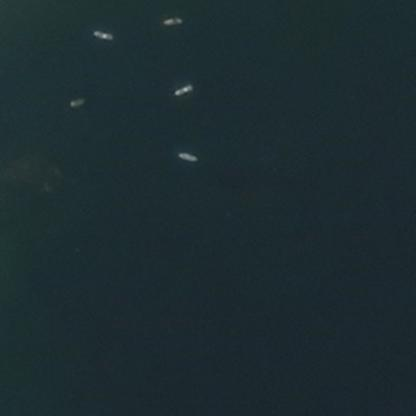ship: (167, 75, 196, 102), (63, 89, 88, 113), (173, 145, 201, 165), (157, 11, 188, 29), (89, 21, 114, 43)
